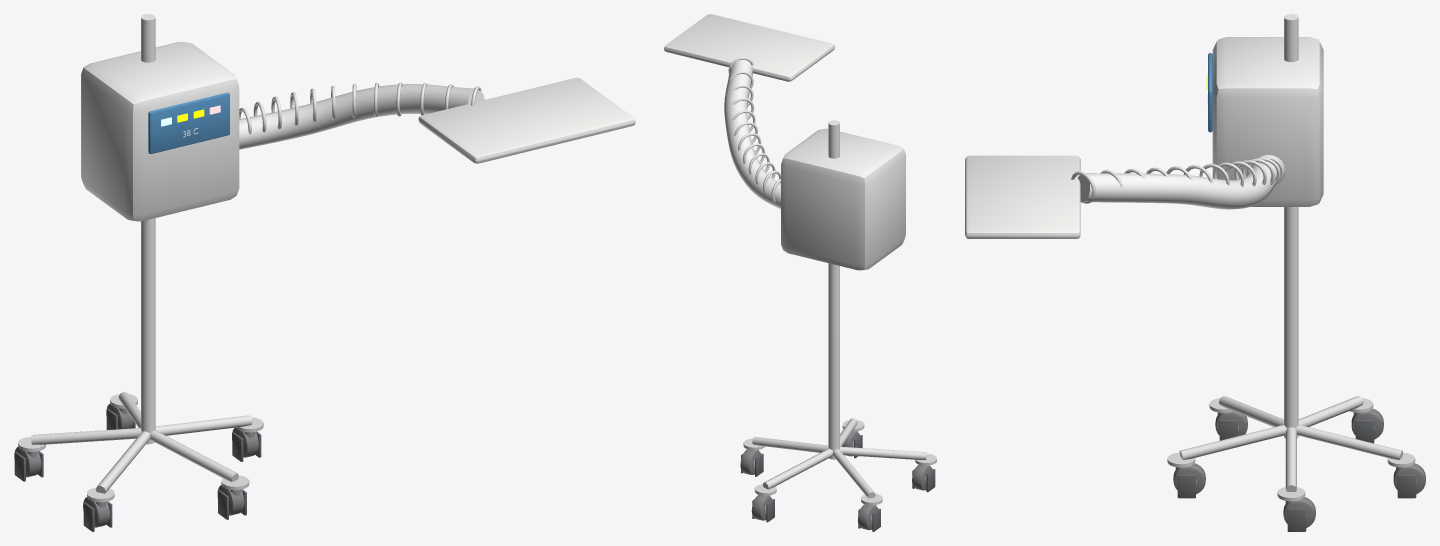
The model's file is PatientWarmer.fbx.
3 views of the same model, side by side, from view 1: azimuth 30°, elevation 25°; view 2: azimuth 150°, elevation 25°; view 3: azimuth 270°, elevation 25° (orthographic). The views are drawn at different scales.
Visible parts, largest first — view 1: PatientWarmer_Mesh; view 2: PatientWarmer_Mesh; view 3: PatientWarmer_Mesh.
Boxes of the visible parts, left/top/right/bottom form: PatientWarmer_Mesh: left=14, top=14, right=635, bottom=531; PatientWarmer_Mesh: left=664, top=14, right=936, bottom=531; PatientWarmer_Mesh: left=965, top=14, right=1425, bottom=531.
Size of the model in its own units: 1.03 by 1.1 by 0.9958.
